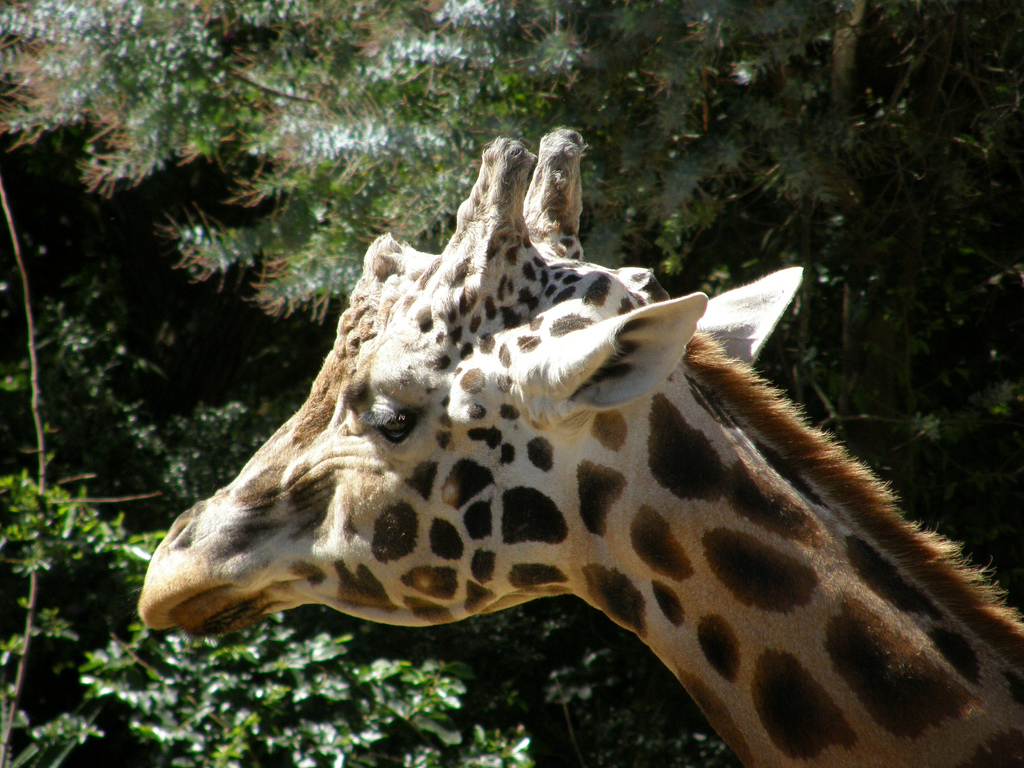giraffe: (134, 142, 954, 726)
